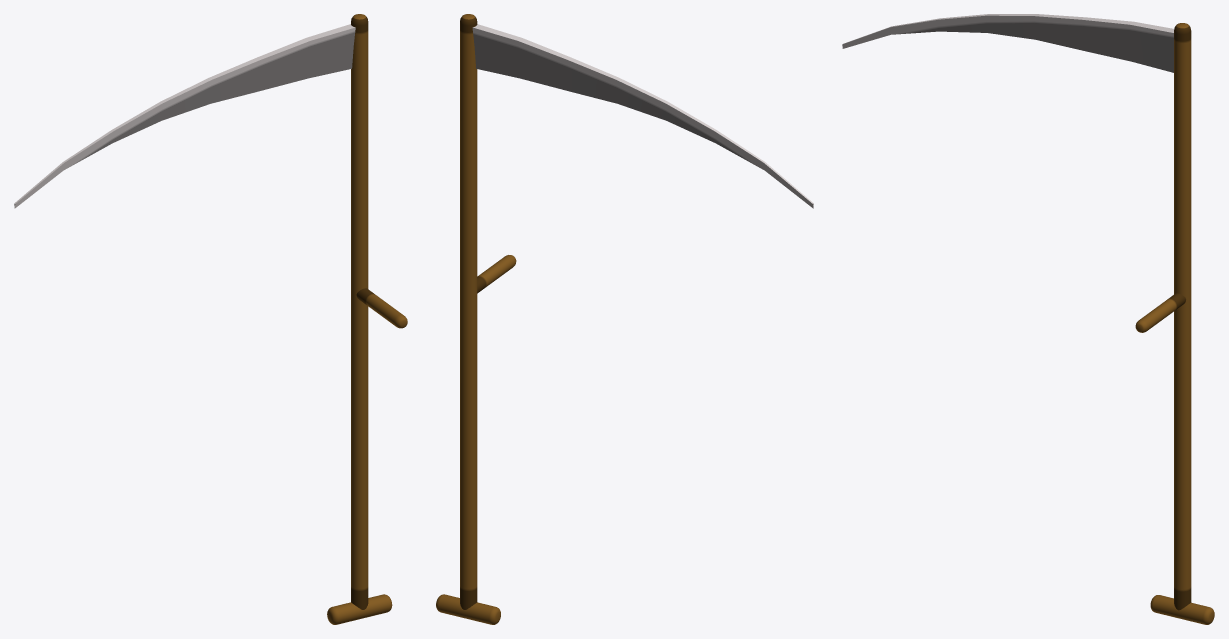
The model's file is Scyth.fbx.
The picture shows the model from 3 angles, left to right: view 1: azimuth 30°, elevation 25°; view 2: azimuth 150°, elevation 25°; view 3: azimuth 330°, elevation 25°; orthographic projection.
Parts seen in each view (by area): view 1: pCylinder9; view 2: pCylinder9; view 3: pCylinder9.
Boxes of the visible parts, <box> form: pCylinder9: <box>14,14,407,624</box>; pCylinder9: <box>436,14,813,624</box>; pCylinder9: <box>842,14,1214,624</box>.
Size of the model in its own units: 47.51 by 72.99 by 10.65.
Materials: 1 (1 with a texture image).
